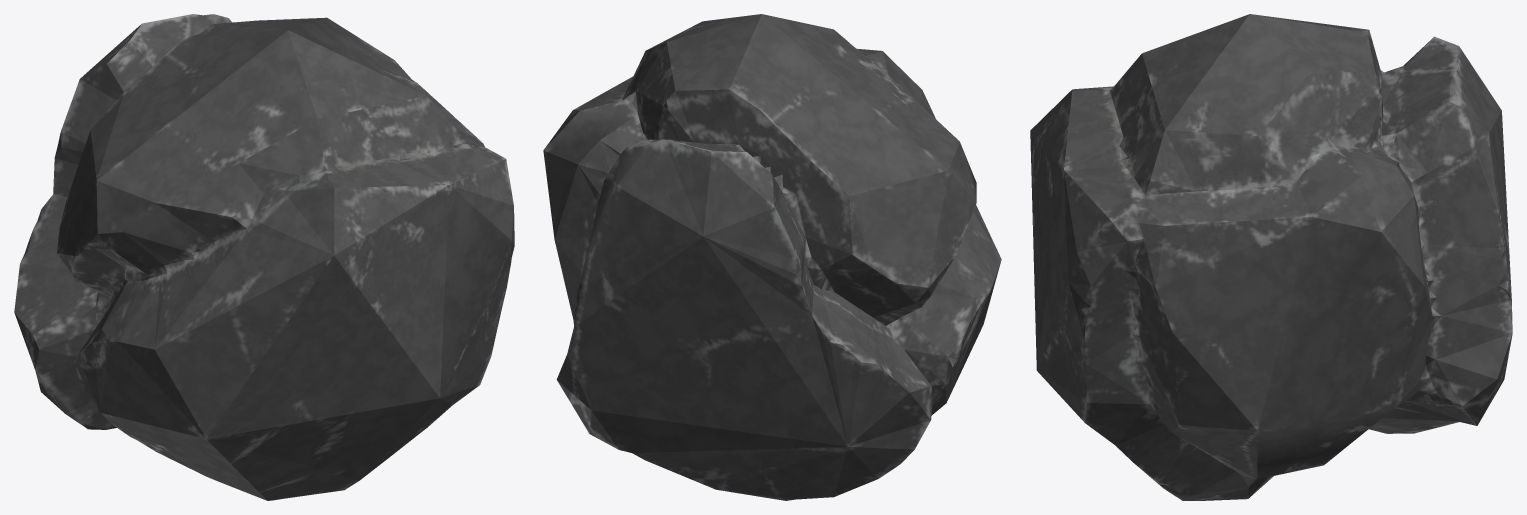
File: med_rock_v2.glb
3 views of the same model, side by side, from view 1: azimuth 30°, elevation 25°; view 2: azimuth 150°, elevation 25°; view 3: azimuth 270°, elevation 25° (orthographic). The views are drawn at different scales.
Parts seen in each view (by area): view 1: med_rock.015; view 2: med_rock.015; view 3: med_rock.015.
Boxes of the visible parts, left/top/right/bottom form: med_rock.015: left=14, top=14, right=514, bottom=500; med_rock.015: left=543, top=14, right=1001, bottom=500; med_rock.015: left=1030, top=14, right=1512, bottom=500.
Size of the model in its own units: 4.2 by 4.69 by 4.2.
1 material, 1 textured.
